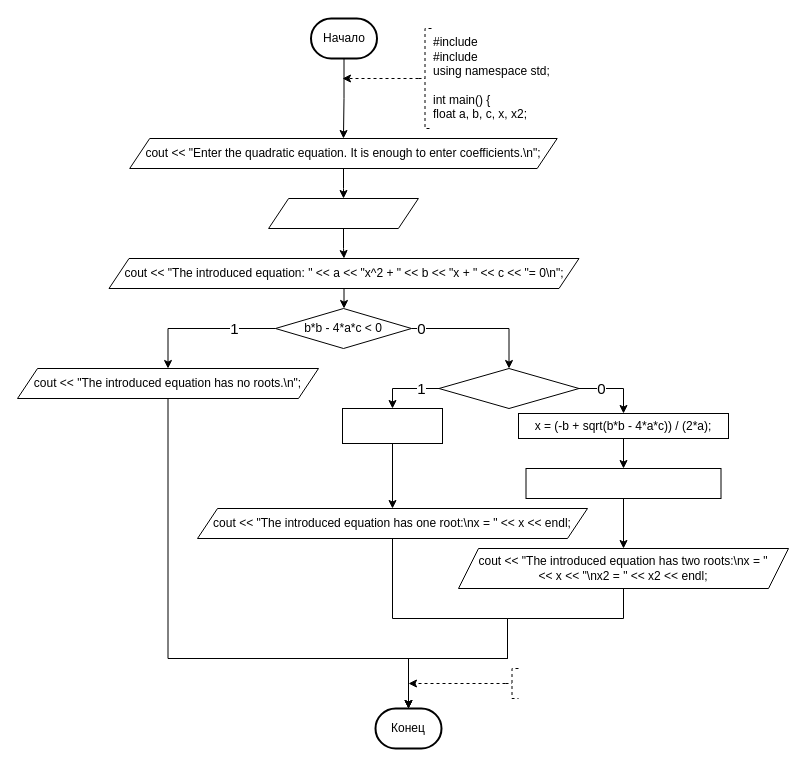
The diagram is 806 pixels wide and 766 high, and some of its shapes have lost their labels. The shapes that lost their labels are listed below. From the top down, each one's centre as x and y in pixels, then its label:
At (x=343, y=213): "cin >> a >> b >> c;".
At (x=508, y=388): "b*b - 4*a*c == 0".
At (x=392, y=426): "x = -b / (2*a);".
At (x=623, y=483): "x2 = (-b - sqrt(b*b - 4*a*c)) / (2*a);".
At (x=511, y=683): "return 0;".
